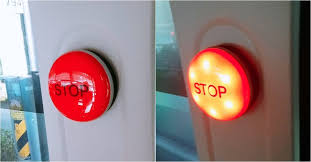bell: (46, 46, 119, 123)
